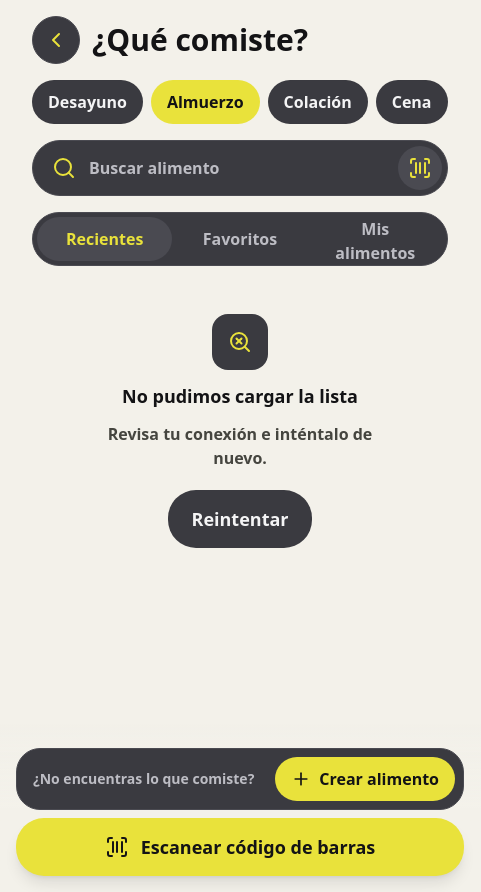
AddFoodPage › hides the tabs while searching and shows them again when the field is cleared
Type "huevo" into the search field labelled "Buscar alimento" at [240, 168], box top-left (32, 140), bottom-right (448, 196)
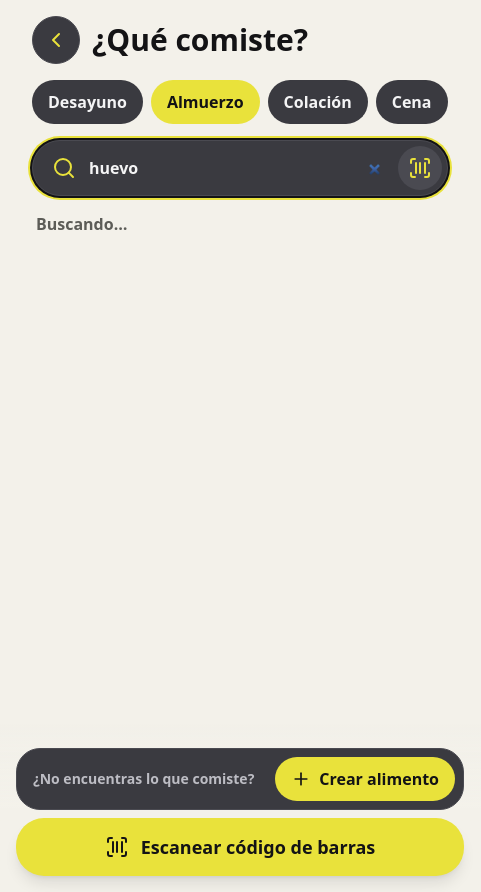
Expected: the button "Favoritos" is gone
Clear the search field named "Buscar alimento" at [240, 168], box top-left (32, 140), bottom-right (448, 196)
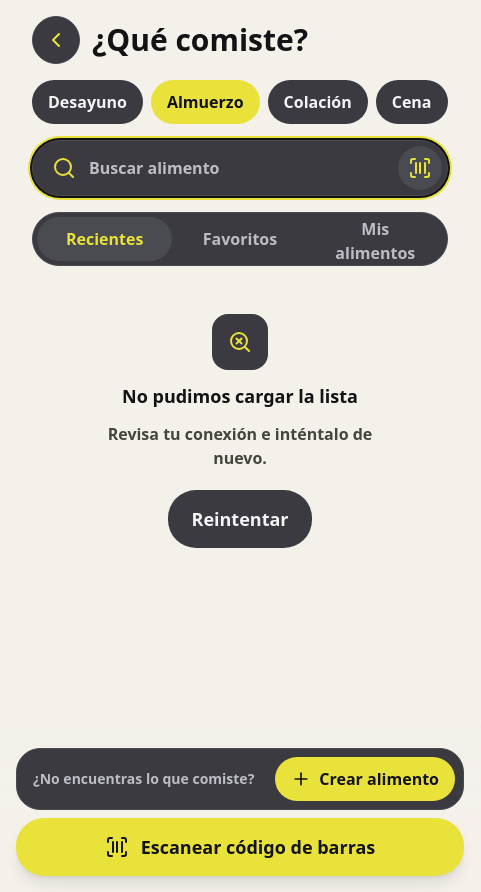
Expected: the button "Favoritos" is shown, top-left (172, 217), bottom-right (308, 261)
